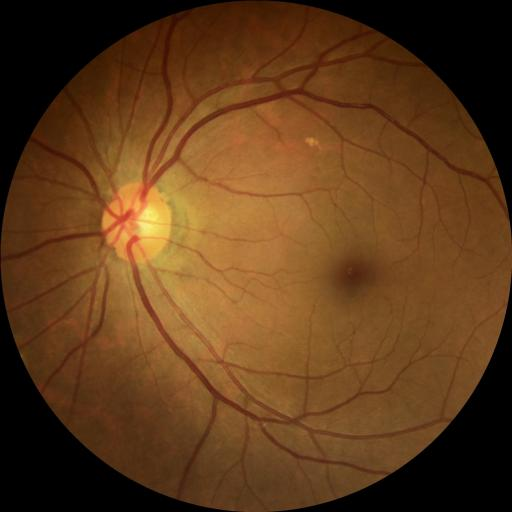Optic Cup: (126, 203, 159, 240)
Optic Disc: (102, 182, 172, 262)
